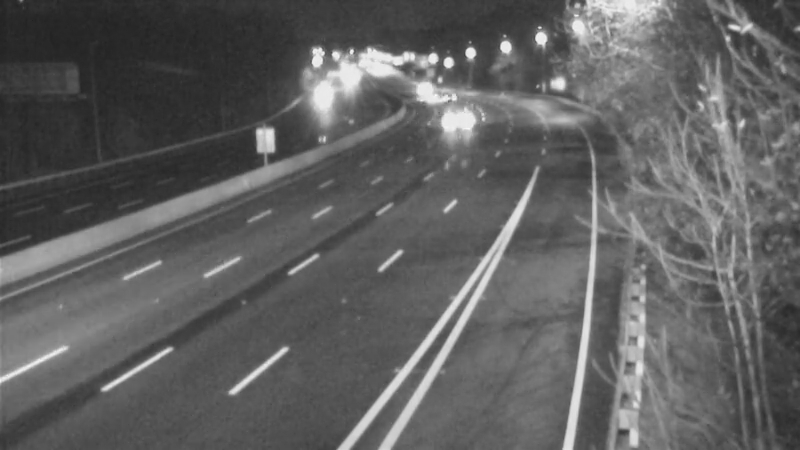vehicle: (397, 60, 447, 110), (433, 70, 483, 120), (426, 92, 476, 142), (296, 69, 346, 119)
